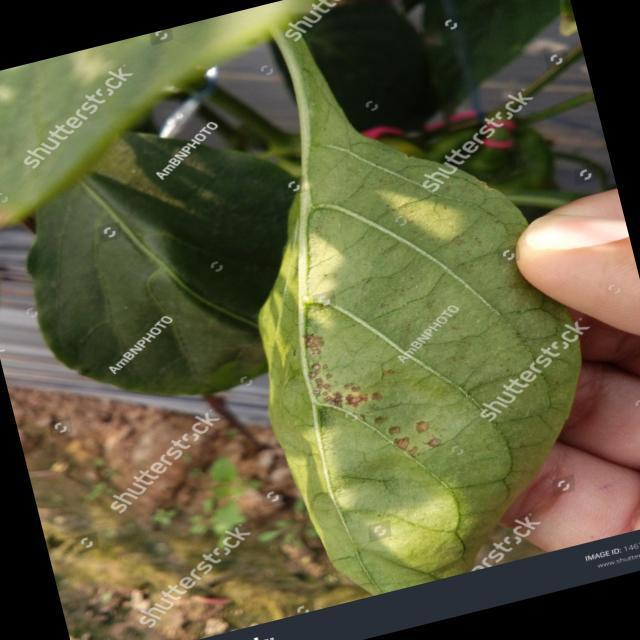Bacterial Spot: (270, 280, 474, 530)
